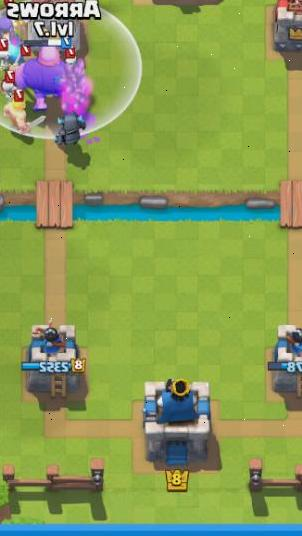enemy_barbarians: (0, 96, 35, 132)
enemy_skeletons: (0, 71, 26, 105), (0, 35, 23, 72), (54, 38, 78, 63)
player_giant: (10, 39, 84, 110)
player_mini_pekka: (44, 103, 93, 153)
